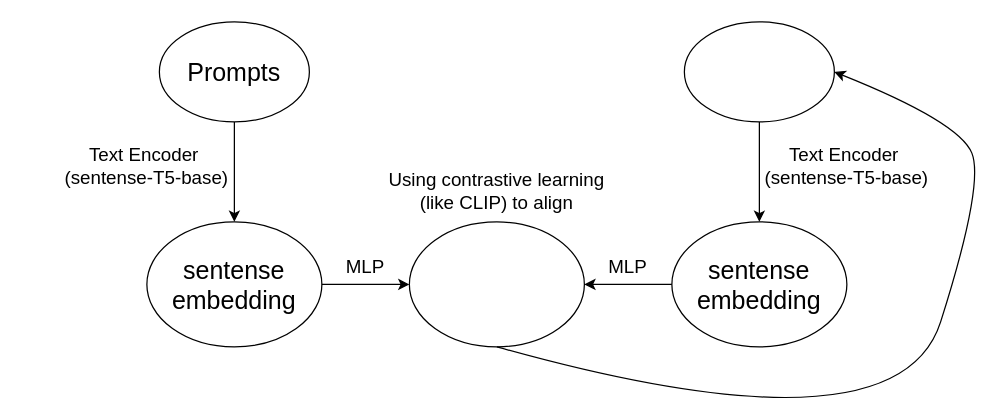
Image size: 996x420. Some labels were removed from this diagram. Each missing label, with the centre of its shape:
Latent space with dim 128: the point at 496,284
Responses: the point at 758,71
